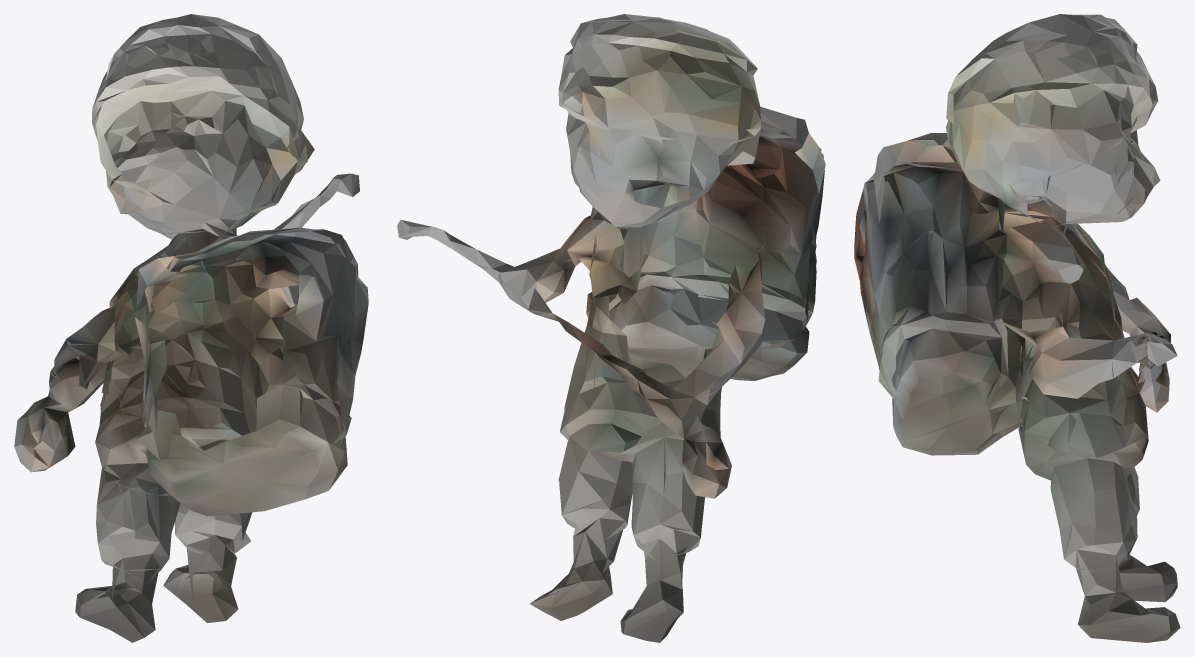
Rendered from munaw_lowpoly.glb.
3 renders of one model, left to right at view 1: azimuth 30°, elevation 25°; view 2: azimuth 150°, elevation 25°; view 3: azimuth 270°, elevation 25°, orthographic. The views are drawn at different scales.
Parts seen in each view (by area): view 1: geometry_0; view 2: geometry_0; view 3: geometry_0.
Part boxes in pixels (x1,y1,x2,y2): geometry_0: (14, 14, 368, 642); geometry_0: (397, 14, 825, 642); geometry_0: (854, 14, 1180, 642).
Bounding box in the file's own units: 0.6563 × 1.1 × 0.5555.
